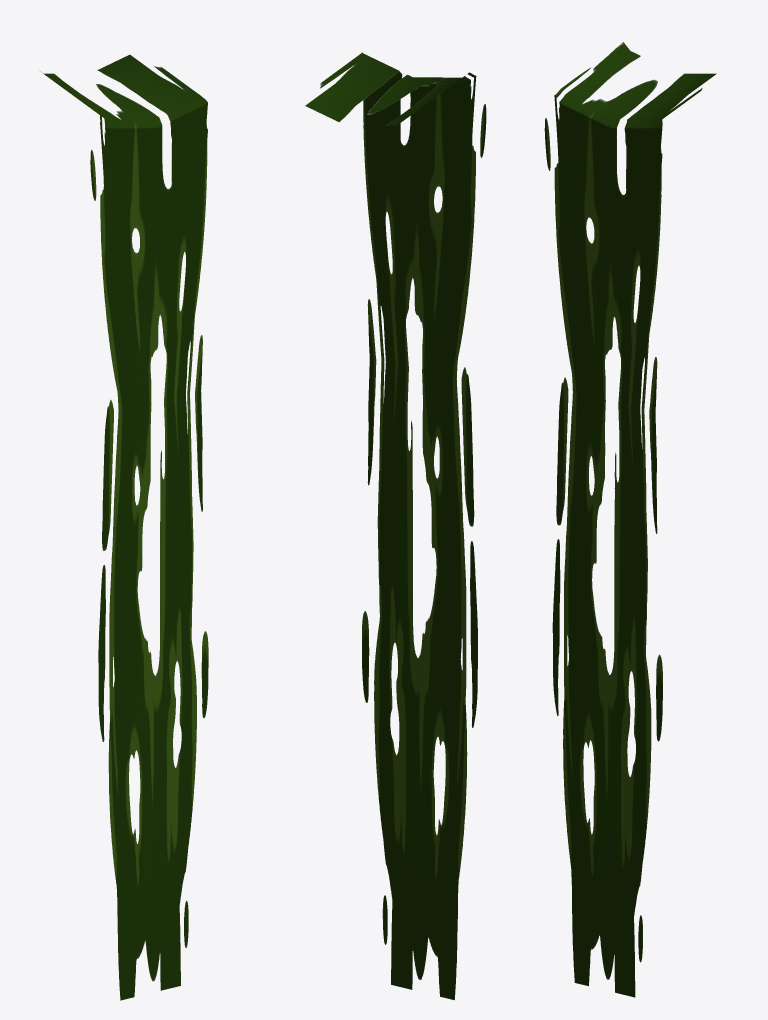
The model's file is sewer_water001.FBX.
3 views of the same model, side by side, from view 1: azimuth 30°, elevation 25°; view 2: azimuth 150°, elevation 25°; view 3: azimuth 330°, elevation 25° (orthographic). The views are drawn at different scales.
Visible parts, largest first — view 1: sewer_water001; view 2: sewer_water001; view 3: sewer_water001.
Boxes of the visible parts, bbox=[...] form: sewer_water001: bbox=[39, 54, 208, 1000]; sewer_water001: bbox=[305, 52, 486, 1000]; sewer_water001: bbox=[544, 42, 716, 997].
Bounding box in the file's own units: 258 × 1380 × 182.
